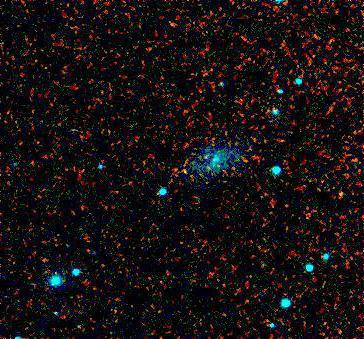star: (158, 12, 188, 42)
